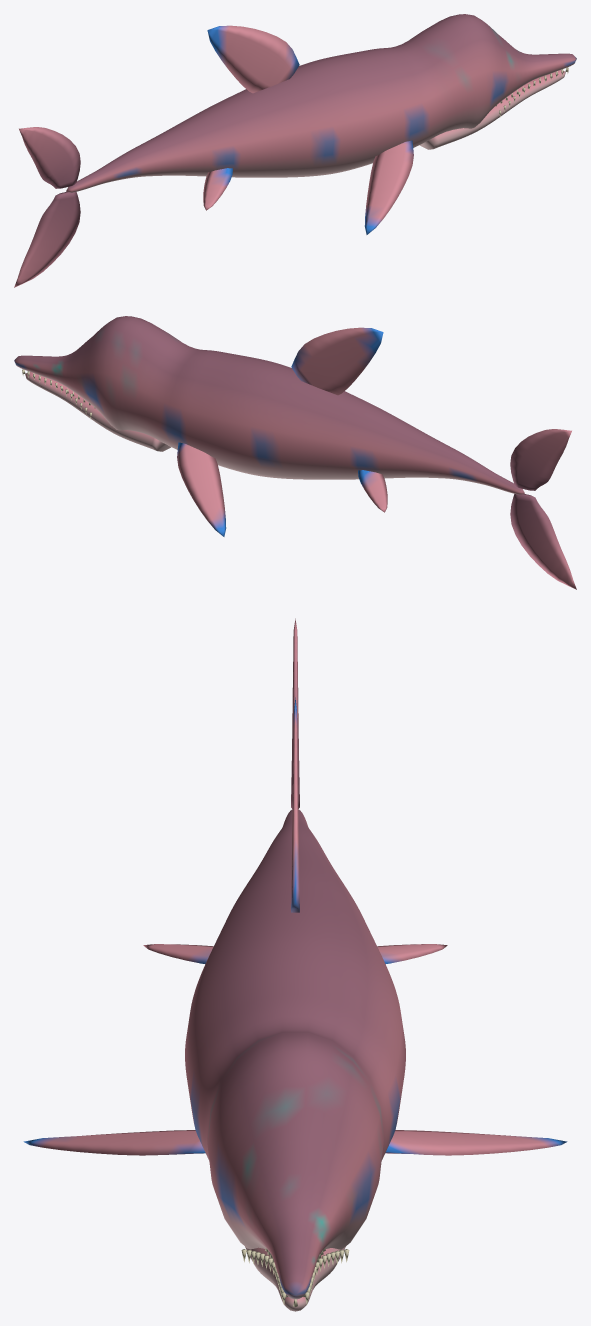
File: kyhy_inia.fbx
3 renders of one model, top to bottom at view 1: azimuth 30°, elevation 25°; view 2: azimuth 150°, elevation 25°; view 3: azimuth 270°, elevation 25°, orthographic. The views are drawn at different scales.
Visible parts, largest first — view 1: kyhy_inia; view 2: kyhy_inia; view 3: kyhy_inia.
Part boxes in pixels (x1,y1,x2,y2): kyhy_inia: [14, 14, 576, 287]; kyhy_inia: [14, 316, 576, 589]; kyhy_inia: [23, 618, 567, 1311].
Bounding box in the file's own units: 350 × 147 × 126.
